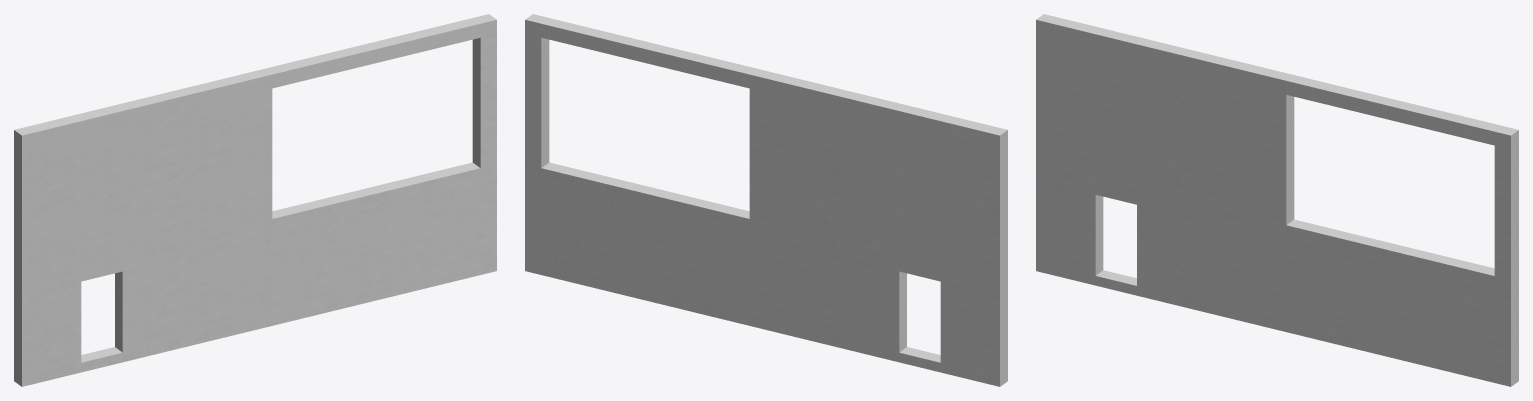
The model's file is Wall 4.fbx.
3 views of the same model, side by side, from view 1: azimuth 30°, elevation 25°; view 2: azimuth 150°, elevation 25°; view 3: azimuth 330°, elevation 25° (orthographic).
Visible parts, largest first — view 1: wall 4; view 2: wall 4; view 3: wall 4.
Part boxes in pixels (x1=…): wall 4: x1=14, y1=14, x2=496, y2=386; wall 4: x1=525, y1=14, x2=1007, y2=386; wall 4: x1=1036, y1=14, x2=1518, y2=386.
Bounding box in the file's own units: 1294 × 655 × 37.18.
Materials: 1 (1 with a texture image).
